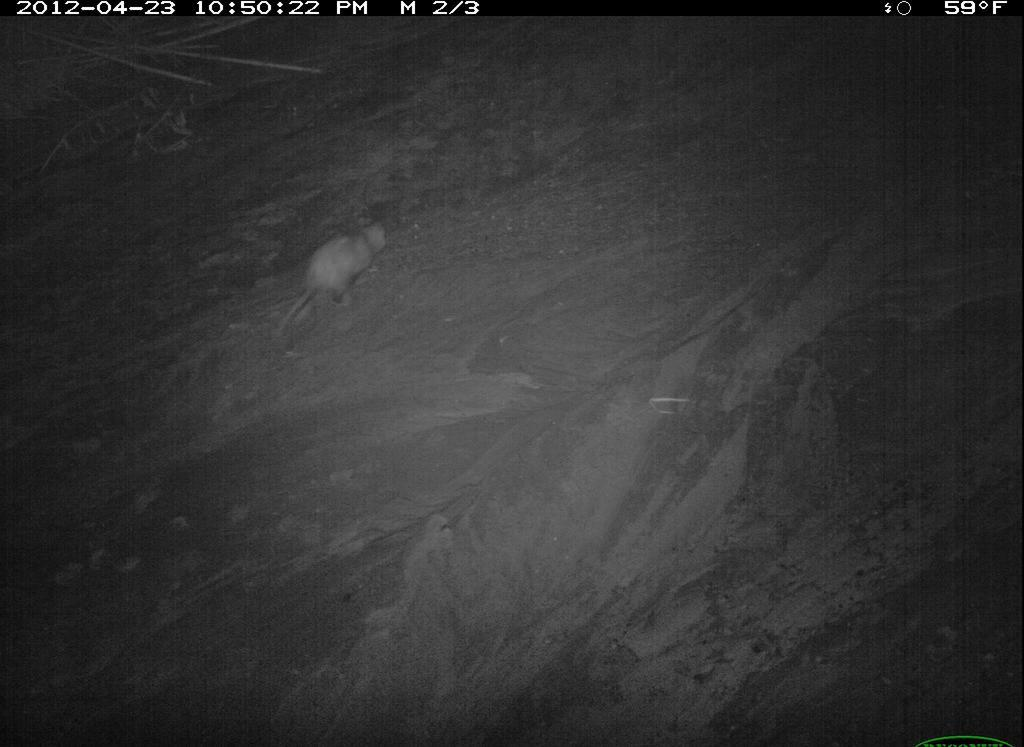opossum: (552, 422, 787, 677)
